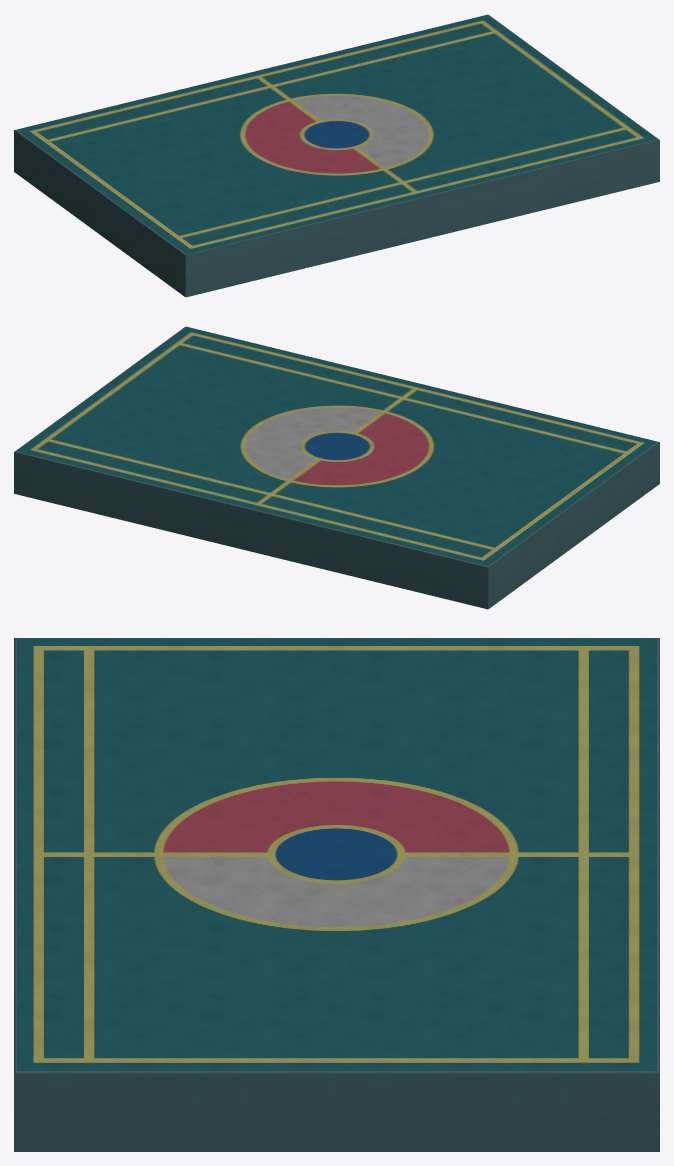
Rendered from objects_un_court01.gltf.
The picture shows the model from 3 angles, top to bottom: view 1: azimuth 30°, elevation 25°; view 2: azimuth 150°, elevation 25°; view 3: azimuth 270°, elevation 25°; orthographic projection. The views are drawn at different scales.
Visible parts, largest first — view 1: objects_un_court01; view 2: objects_un_court01; view 3: objects_un_court01.
Boxes of the visible parts, x1,y1,x2,y2 form: objects_un_court01: (14, 14, 659, 297); objects_un_court01: (14, 326, 659, 609); objects_un_court01: (14, 638, 659, 1151).
Bounding box in the file's own units: 23.38 × 1.99 × 14.66.
Materials: 1 (1 with a texture image).
